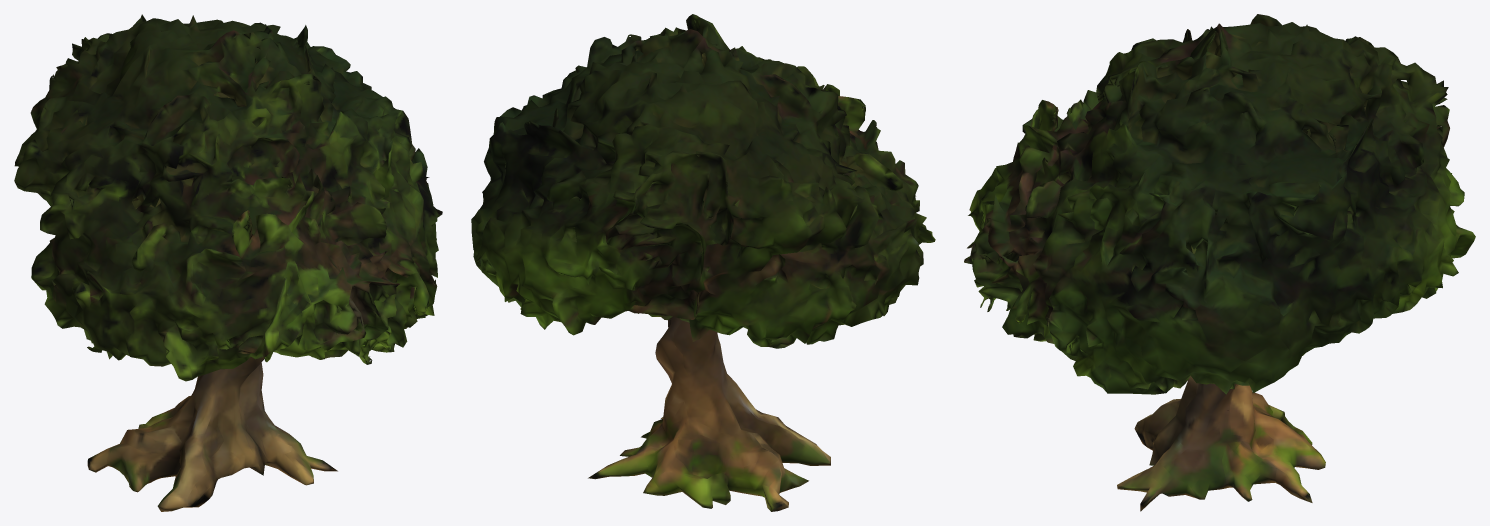
Rendered from AI_TwistedOakTree.fbx.
The picture shows the model from 3 angles, left to right: view 1: azimuth 30°, elevation 25°; view 2: azimuth 150°, elevation 25°; view 3: azimuth 270°, elevation 25°; orthographic projection. The views are drawn at different scales.
Visible parts, largest first — view 1: Mesh_0; view 2: Mesh_0; view 3: Mesh_0.
Boxes of the visible parts, x1,y1,x2,y2 form: Mesh_0: (14,14,442,511); Mesh_0: (471,14,935,511); Mesh_0: (964,14,1475,511).
Size of the model in its own units: 179 by 195 by 199.
Materials: 1 (1 with a texture image).
